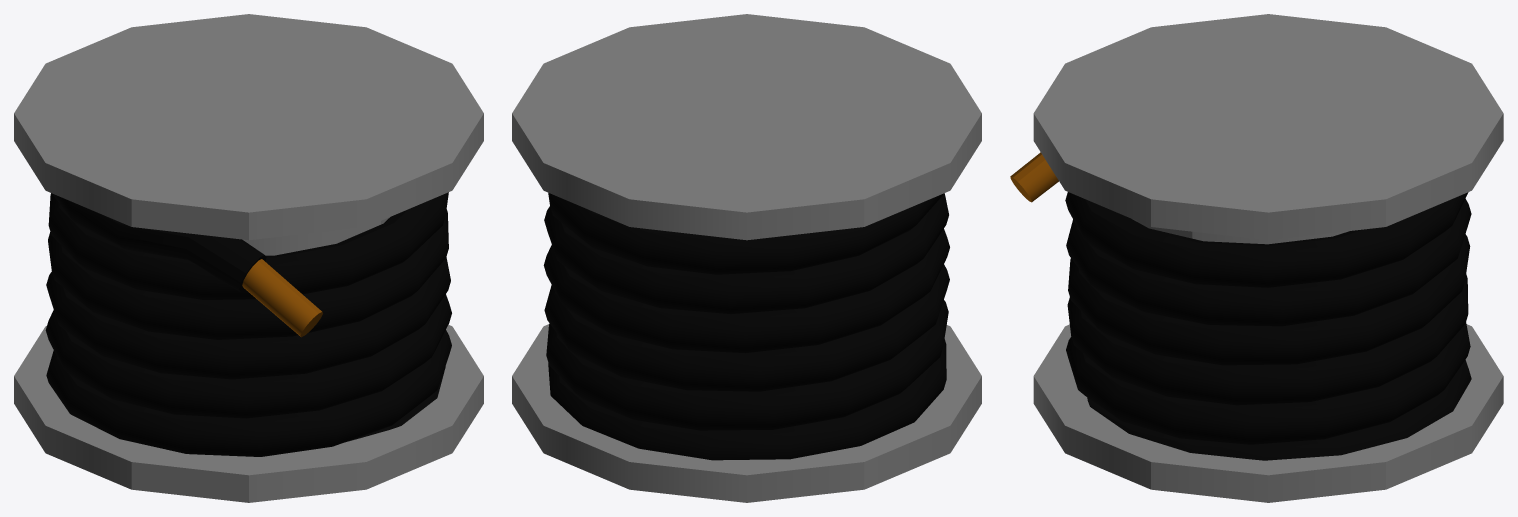
File: Cable_Roll.fbx
3 views of the same model, side by side, from view 1: azimuth 30°, elevation 25°; view 2: azimuth 150°, elevation 25°; view 3: azimuth 270°, elevation 25° (orthographic).
Parts seen in each view (by area): view 1: Cable_Roll; view 2: Cable_Roll; view 3: Cable_Roll.
Part boxes in pixels (x1,y1,x2,y2): Cable_Roll: (14, 14, 483, 502); Cable_Roll: (512, 14, 981, 502); Cable_Roll: (1010, 14, 1503, 502).
Size of the model in its own units: 0.88 by 0.9234 by 0.6232.
